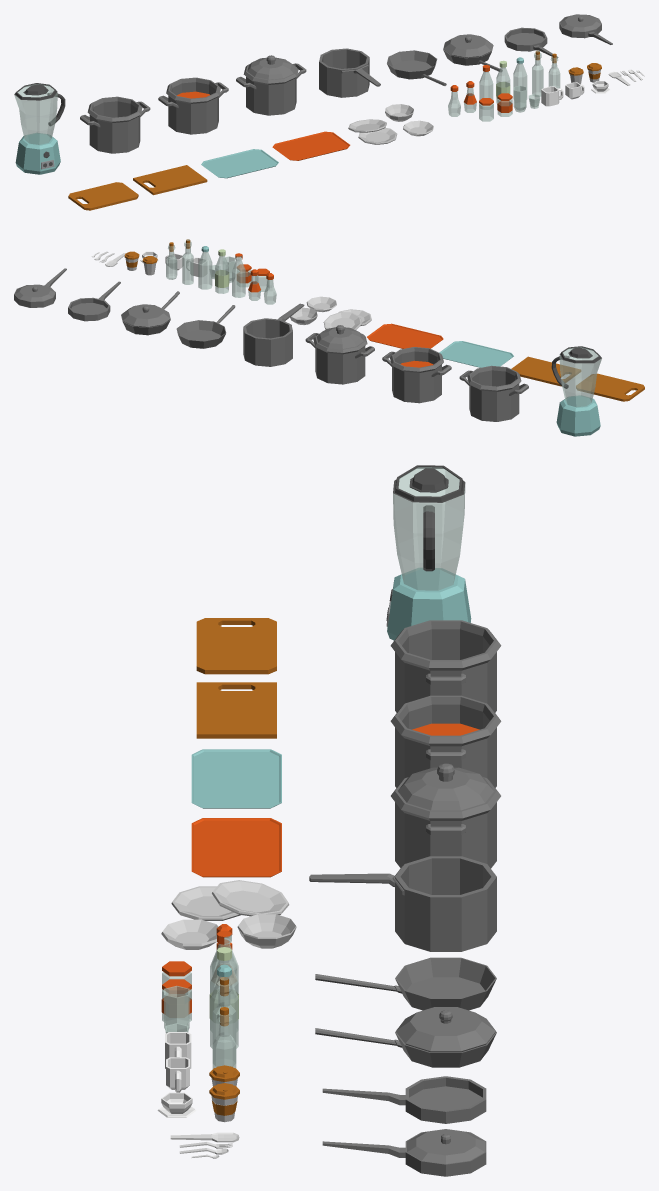
File: Low Poly Kitchen Assets.fbx
3 renders of one model, top to bottom at view 1: azimuth 30°, elevation 25°; view 2: azimuth 150°, elevation 25°; view 3: azimuth 270°, elevation 25°, orthographic. The views are drawn at different scales.
Parts seen in each view (by area): view 1: Cylinder, Cylinder.004, Cylinder.005, Cylinder.008, Cylinder.006, Plane.005, Plane.004, Plane.002, Plane, Cylinder.010, Cylinder.014, Cylinder.013 (+19 smaller); view 2: Cylinder, Cylinder.004, Cylinder.005, Cylinder.008, Cylinder.006, Plane.004, Plane.005, Plane, Cylinder.010, Plane.002, Cylinder.014, Cylinder.013 (+16 smaller); view 3: Cylinder, Cylinder.008, Cylinder.004, Cylinder.005, Cylinder.006, Plane.004, Plane.005, Plane.002, Plane, Cylinder.010, Cylinder.014, Cylinder.013 (+13 smaller).
Boxes of the visible parts, <box> form: Cylinder: <box>14,83,60,174</box>; Cylinder.004: <box>87,96,142,153</box>; Cylinder.005: <box>166,77,220,134</box>; Cylinder.008: <box>319,48,380,97</box>; Cylinder.006: <box>243,61,298,115</box>; Plane.005: <box>272,131,350,160</box>; Plane.004: <box>201,149,278,178</box>; Plane.002: <box>133,165,207,195</box>; Plane: <box>68,182,138,210</box>; Cylinder.010: <box>387,50,437,79</box>; Cylinder.014: <box>504,27,558,57</box>; Cylinder.013: <box>443,34,492,57</box>; Cylinder: <box>556,346,601,436</box>; Cylinder.004: <box>467,365,521,421</box>; Cylinder.005: <box>390,347,443,403</box>; Cylinder.008: <box>243,303,304,366</box>; Cylinder.006: <box>313,331,367,384</box>; Plane.004: <box>439,341,513,367</box>; Plane.005: <box>367,323,443,348</box>; Plane: <box>576,373,644,401</box>; Cylinder.010: <box>176,320,226,348</box>; Plane.002: <box>511,356,580,386</box>; Cylinder.014: <box>68,281,120,321</box>; Cylinder.013: <box>121,304,170,327</box>; Cylinder: <box>386,465,471,640</box>; Cylinder.008: <box>309,856,496,951</box>; Cylinder.004: <box>390,620,501,712</box>; Cylinder.005: <box>390,695,501,787</box>; Cylinder.006: <box>391,777,500,868</box>; Plane.004: <box>191,749,281,808</box>; Plane.005: <box>191,818,281,877</box>; Plane.002: <box>196,682,276,738</box>; Plane: <box>196,618,276,674</box>; Cylinder.010: <box>395,957,496,1010</box>; Cylinder.014: <box>322,1076,486,1123</box>; Cylinder.013: <box>396,1007,495,1052</box>.
Size of the model in its own units: 652 by 83.39 by 168.
